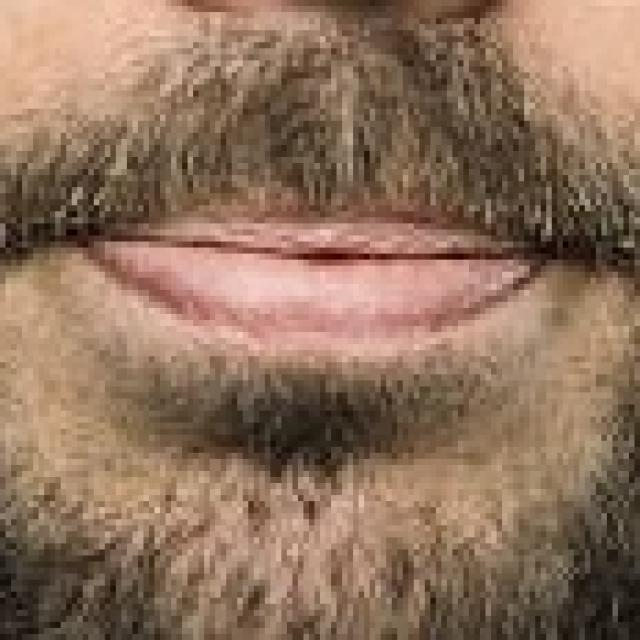closed-mouth: (53, 192, 552, 348)
